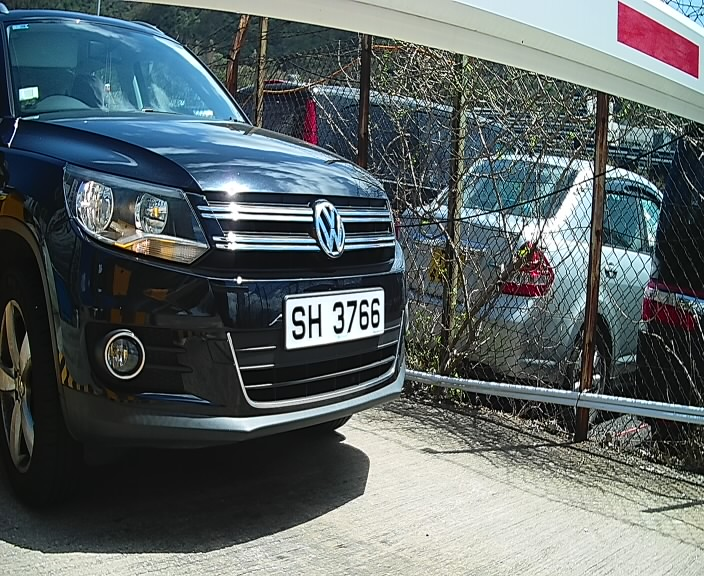License Plate: (279, 283, 396, 358)
